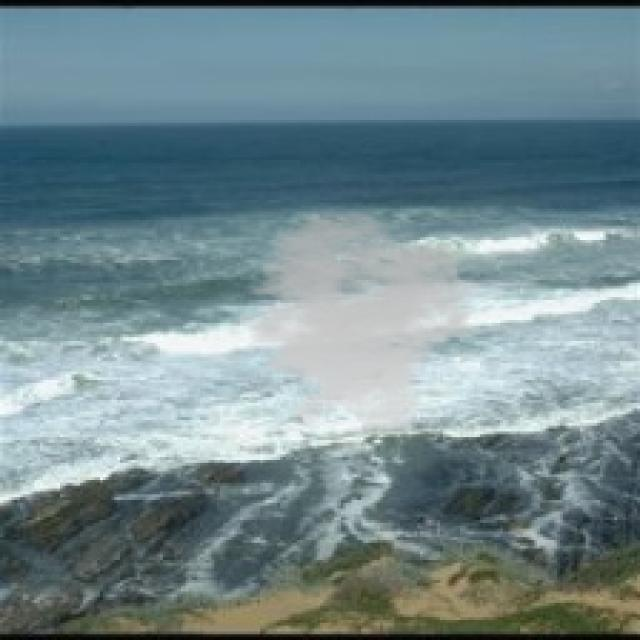smoke: (217, 209, 483, 437)
